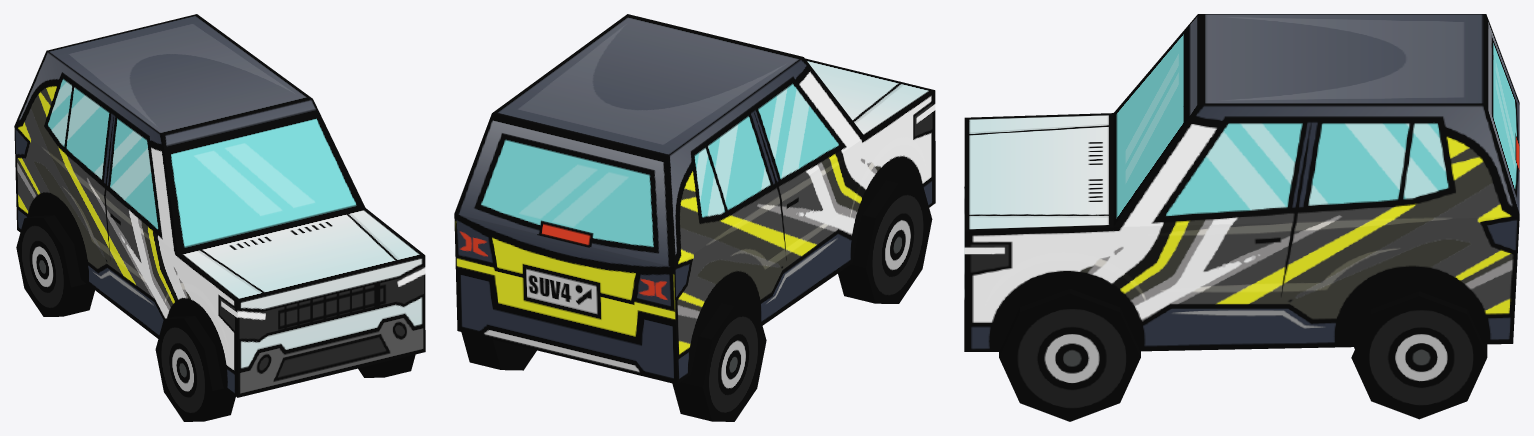
Rendered from car13_13.gltf.
3 renders of one model, left to right at view 1: azimuth 30°, elevation 25°; view 2: azimuth 150°, elevation 25°; view 3: azimuth 270°, elevation 25°, orthographic. The views are drawn at different scales.
Visible parts, largest first — view 1: Cylinder.002; view 2: Cylinder.002; view 3: Cylinder.002.
Boxes of the visible parts, x1,y1,x2,y2 form: Cylinder.002: [14, 14, 425, 421]; Cylinder.002: [454, 14, 935, 421]; Cylinder.002: [964, 14, 1519, 421].
Bounding box in the file's own units: 2.79 × 3.11 × 5.21.
Materials: 1 (1 with a texture image).
